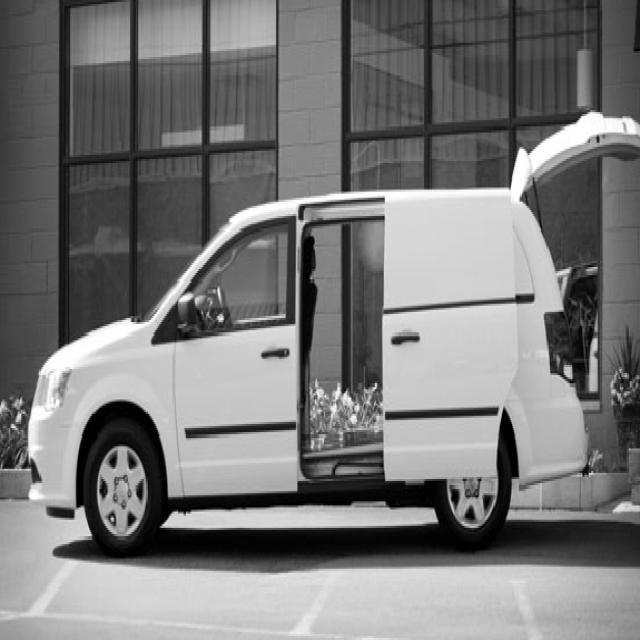car: (27, 108, 639, 558)
